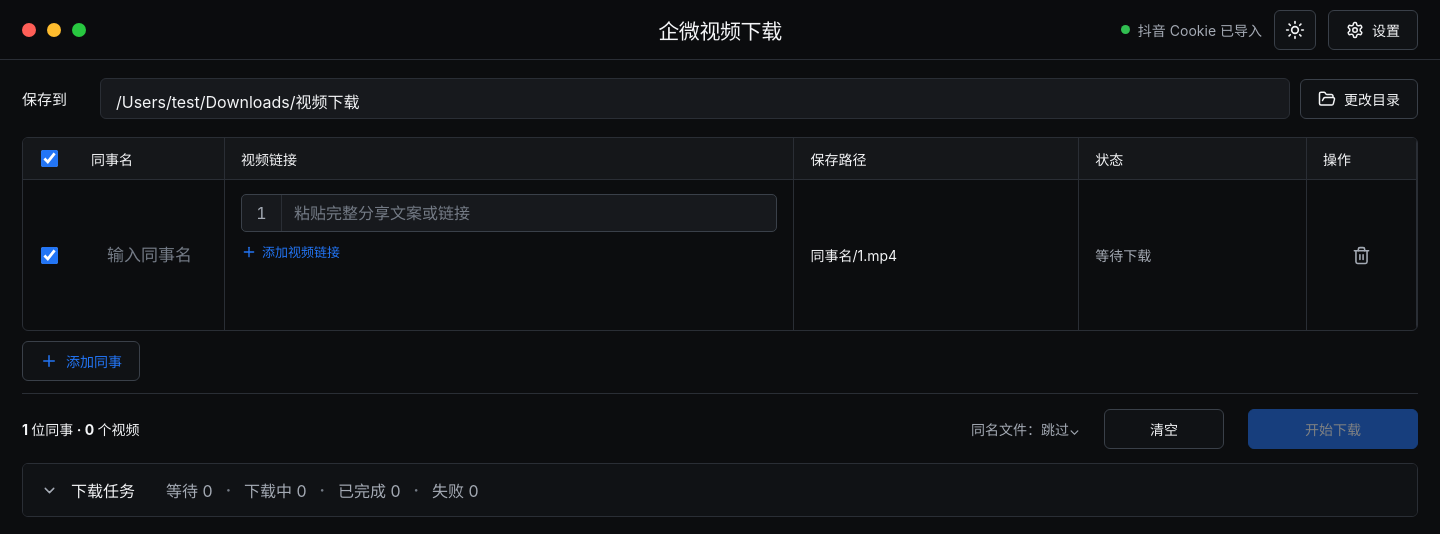
Scenario: App › adds links, removes them, and keeps consecutive labels
Expected: the text "抖音 Cookie 已导入" is shown, [1121,20,1262,40]
Type "张三" into the field labelled "同事名" at (150,255), box [91,236,208,274]
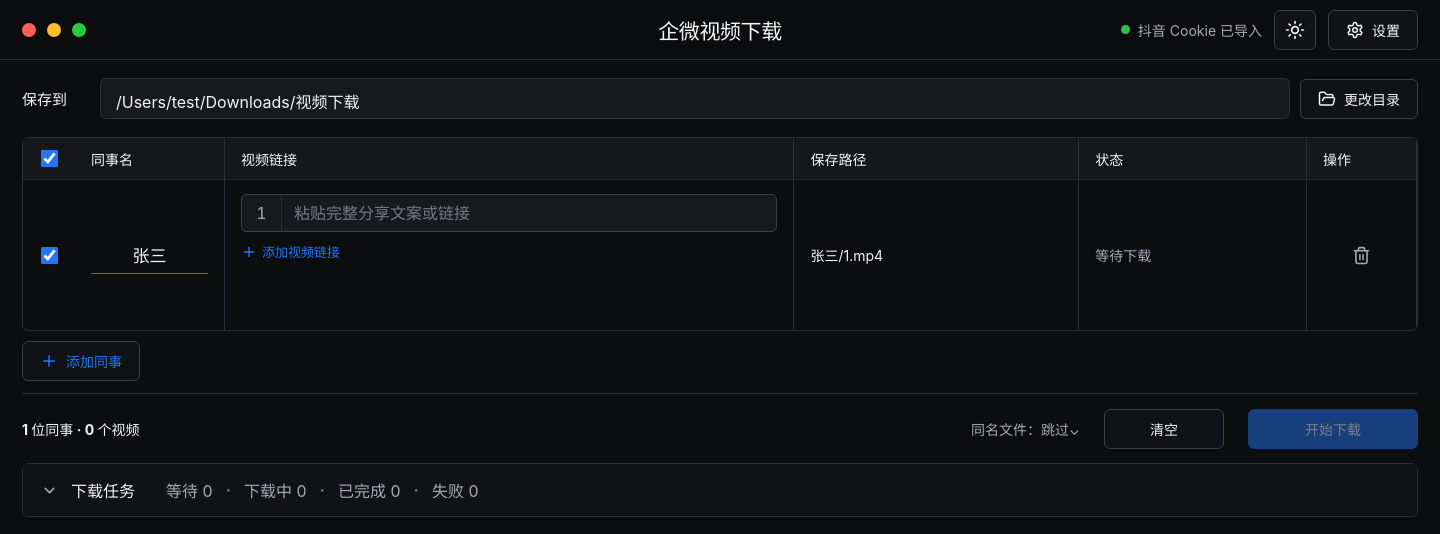
Click the button "添加视频链接" at (290,252), box [241,239,340,264]
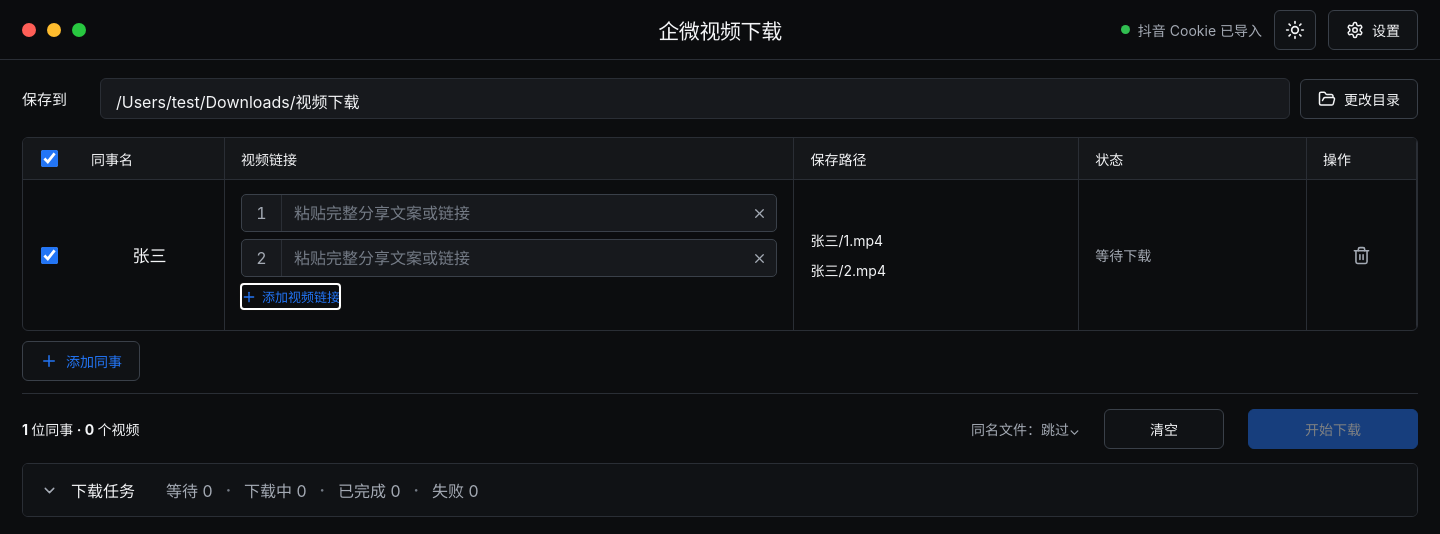
Expected: the field named "张三视频链接2" is shown, [282,240,742,276]
Click the button named "删除视频链接1" at (760,213), box [742,196,776,230]
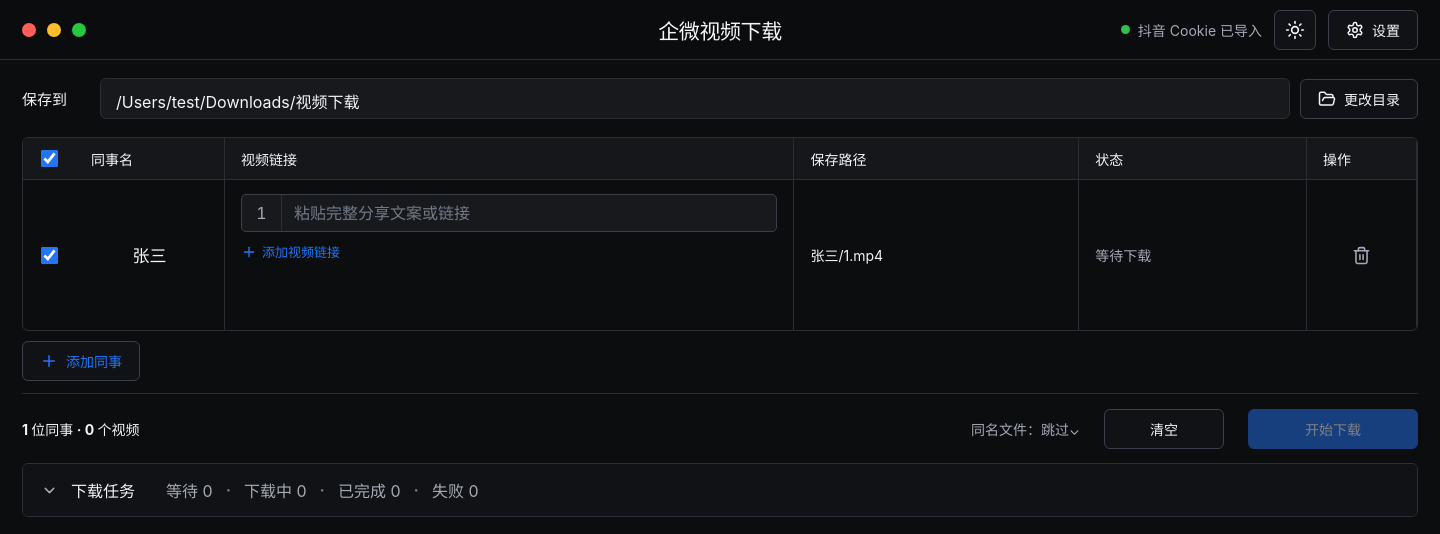
Expected: the field named "张三视频链接1" is shown, [282,195,742,231]
Expected: the field labelled "张三视频链接2" is gone
